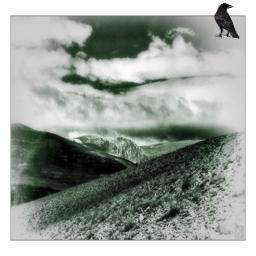Crow: (214, 3, 240, 39)
